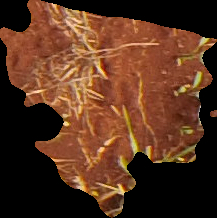soil: (1, 2, 216, 216)
